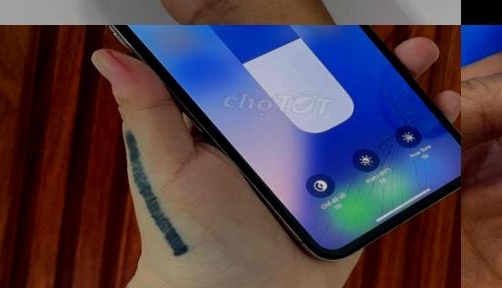physical_damage: (292, 45, 451, 254)
